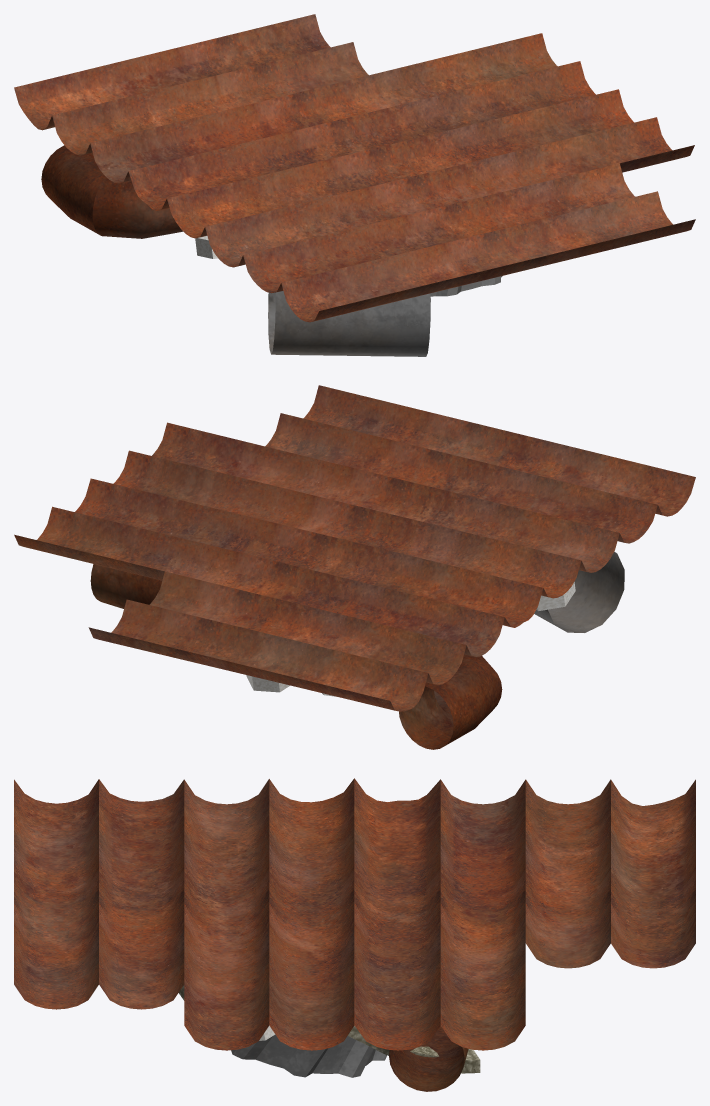
File: Scrap.fbx
3 views of the same model, one above another, from view 1: azimuth 30°, elevation 25°; view 2: azimuth 150°, elevation 25°; view 3: azimuth 270°, elevation 25° (orthographic). The views are drawn at different scales.
Visible parts, largest first — view 1: scrap_low.001; view 2: scrap_low.001; view 3: scrap_low.001.
Boxes of the visible parts, x1,y1,x2,y2 form: scrap_low.001: (14,14,695,356); scrap_low.001: (14,385,695,749); scrap_low.001: (14,778,695,1091).
Size of the model in its own units: 20.06 by 18 by 4.92.
Materials: 1 (1 with a texture image).
